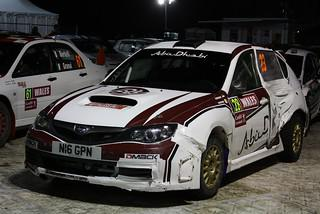doorouter-dent: (269, 80, 296, 131)
fender-dent: (194, 106, 232, 162)
front-bumper-dent: (94, 129, 192, 196)
